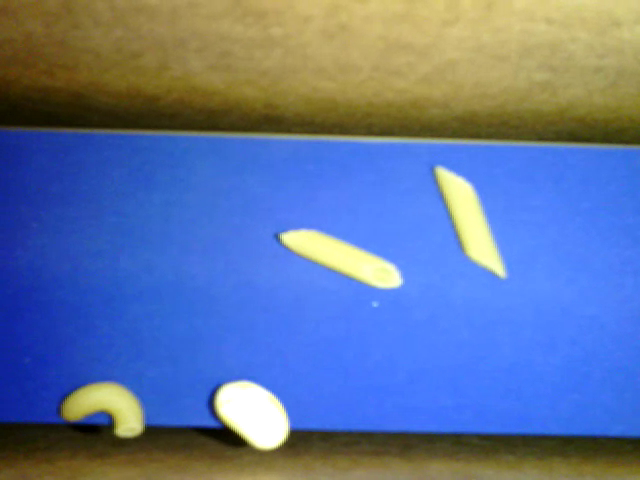elbow: (60, 380, 143, 437)
penne: (433, 165, 508, 279), (277, 228, 402, 288)
